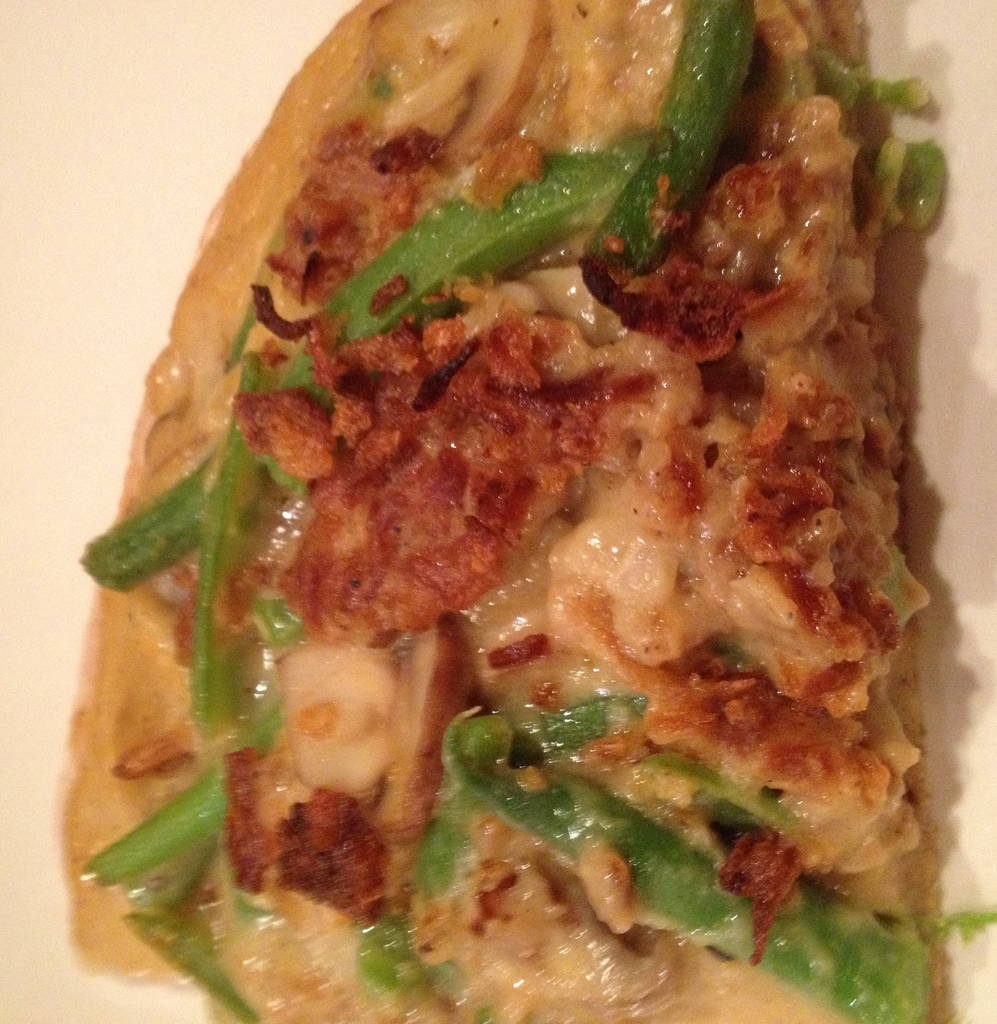Pizza: (59, 0, 990, 1024)
